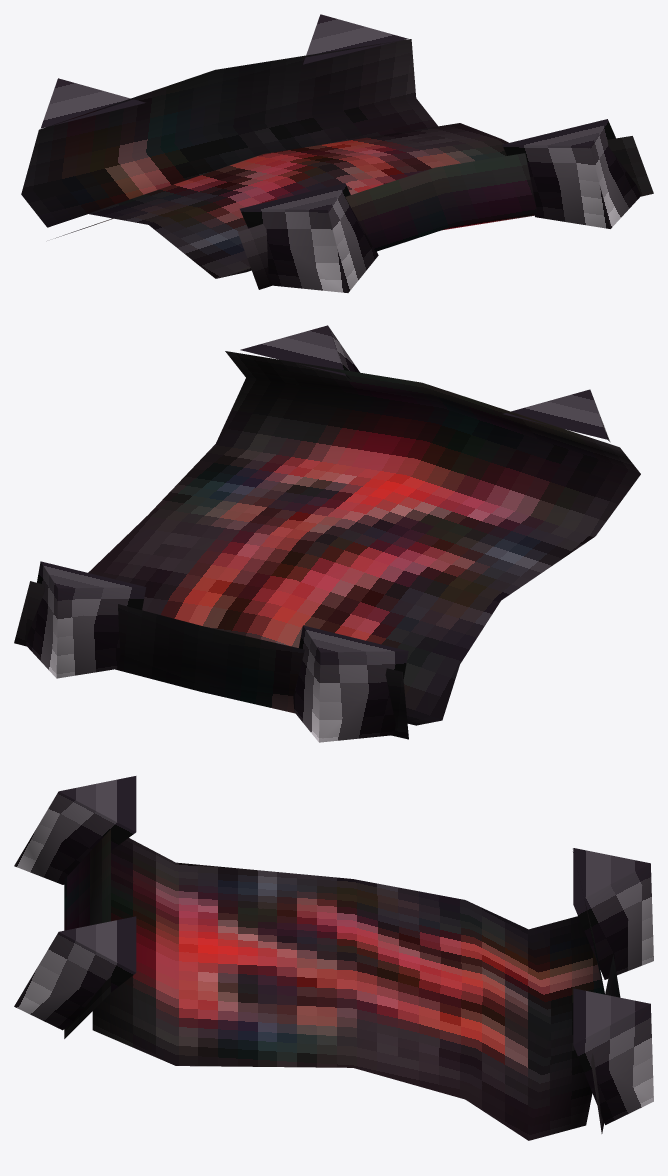
File: Covenant.glb
The picture shows the model from 3 angles, top to bottom: view 1: azimuth 30°, elevation 25°; view 2: azimuth 150°, elevation 25°; view 3: azimuth 270°, elevation 25°; orthographic projection. The views are drawn at different scales.
Visible parts, largest first — view 1: model_Covenant; view 2: model_Covenant; view 3: model_Covenant.
Boxes of the visible parts, <box> form: model_Covenant: <box>21,14,653,292</box>; model_Covenant: <box>14,325,640,742</box>; model_Covenant: <box>14,776,653,1140</box>.
Bounding box in the file's own units: 0.3514 × 0.1581 × 0.4493.
2 materials, 2 textured.
